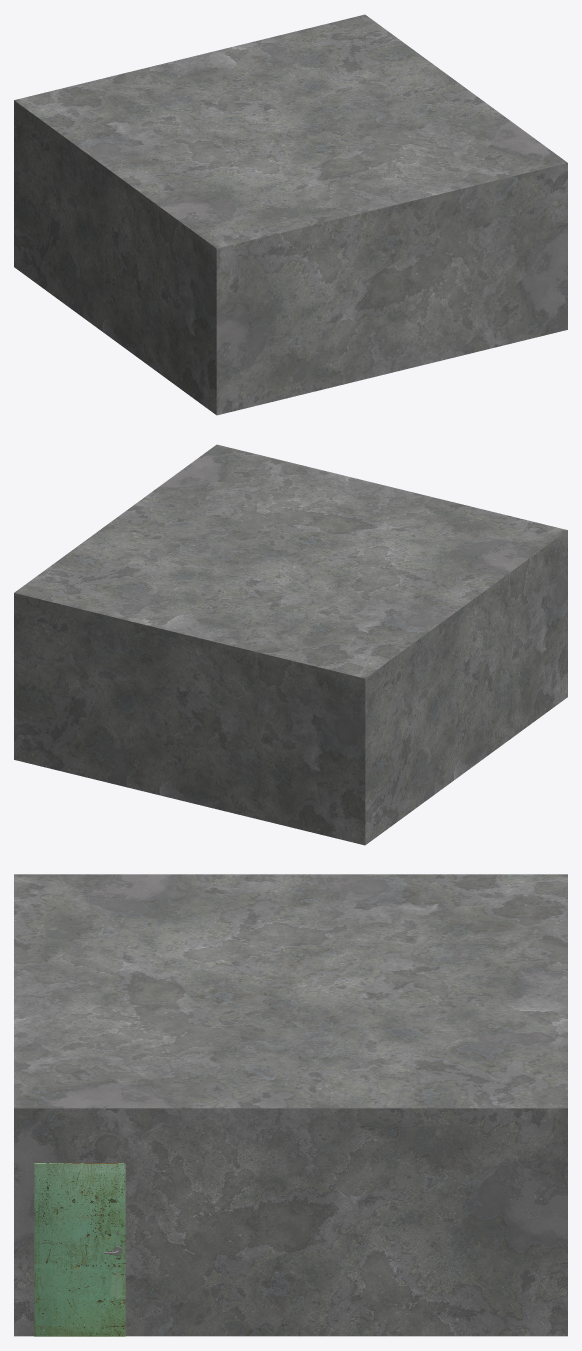
File: room_no_hole.obj
3 renders of one model, top to bottom at view 1: azimuth 30°, elevation 25°; view 2: azimuth 150°, elevation 25°; view 3: azimuth 270°, elevation 25°, orthographic. The views are drawn at different scales.
Visible parts, largest first — view 1: Cube.001_Cube.003; view 2: Cube.001_Cube.003; view 3: Cube.001_Cube.003, vrata_kljuka.002_CUBezierCurve.004.
Boxes of the visible parts, <box> form: Cube.001_Cube.003: <box>14,14,567,415</box>; Cube.001_Cube.003: <box>14,444,567,845</box>; Cube.001_Cube.003: <box>14,874,567,1336</box>; vrata_kljuka.002_CUBezierCurve.004: <box>34,1163,125,1336</box>.
Bounding box in the file's own units: 5.83 × 2.6 × 5.73.
Materials: 6 (6 with a texture image).
